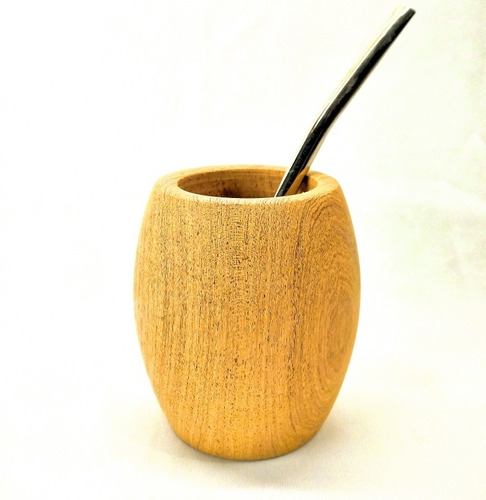madera: (129, 2, 416, 461)
mate: (131, 4, 418, 463)
